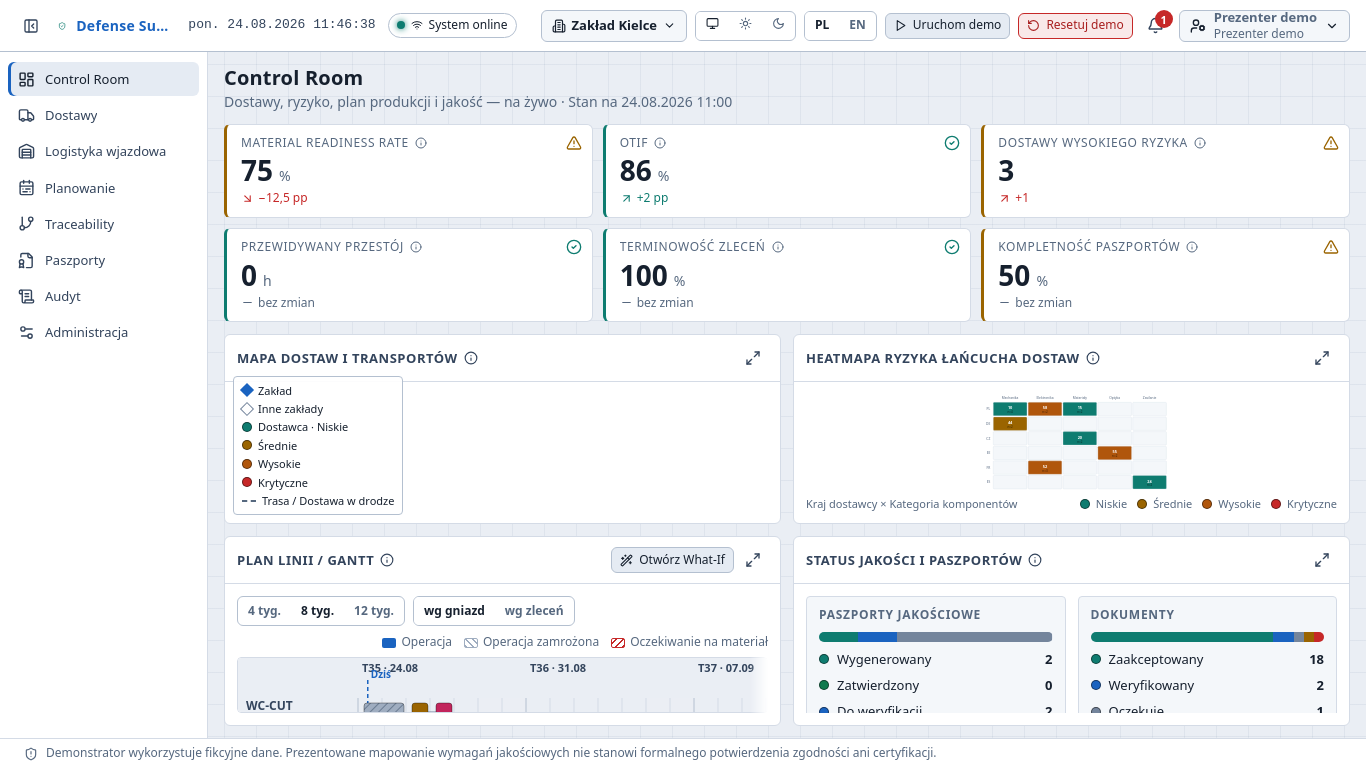
Test case: plant switching › shows no other plant’s records after a switch
Expected: the element with test id "panel-plan" is shown, [224,536,781,726]
Expected: the element with test id "gantt" is shown, [237,596,768,713]
Click the button with test id "site-switch": (614, 26) [540,10,687,42]
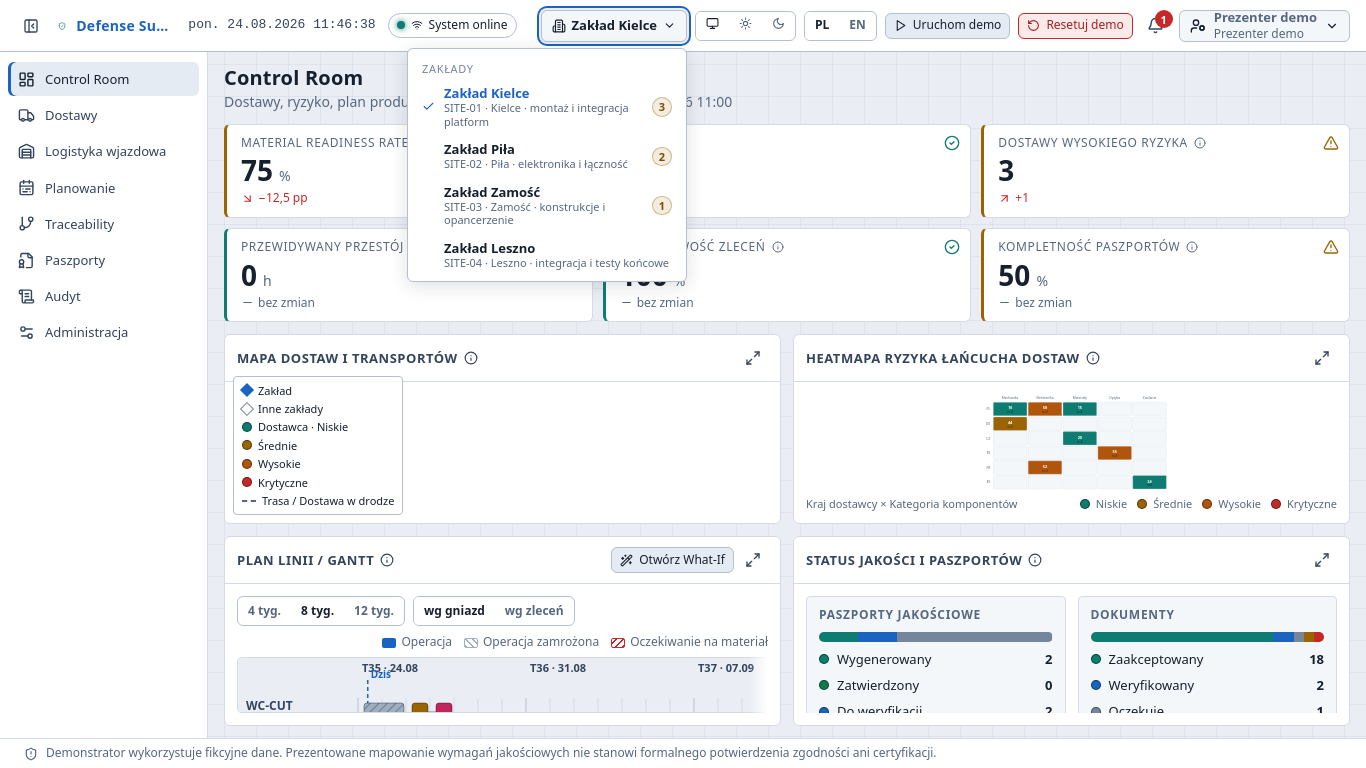
Click the option with test id "site-option-SITE-03": (547, 206) [414,179,680,233]
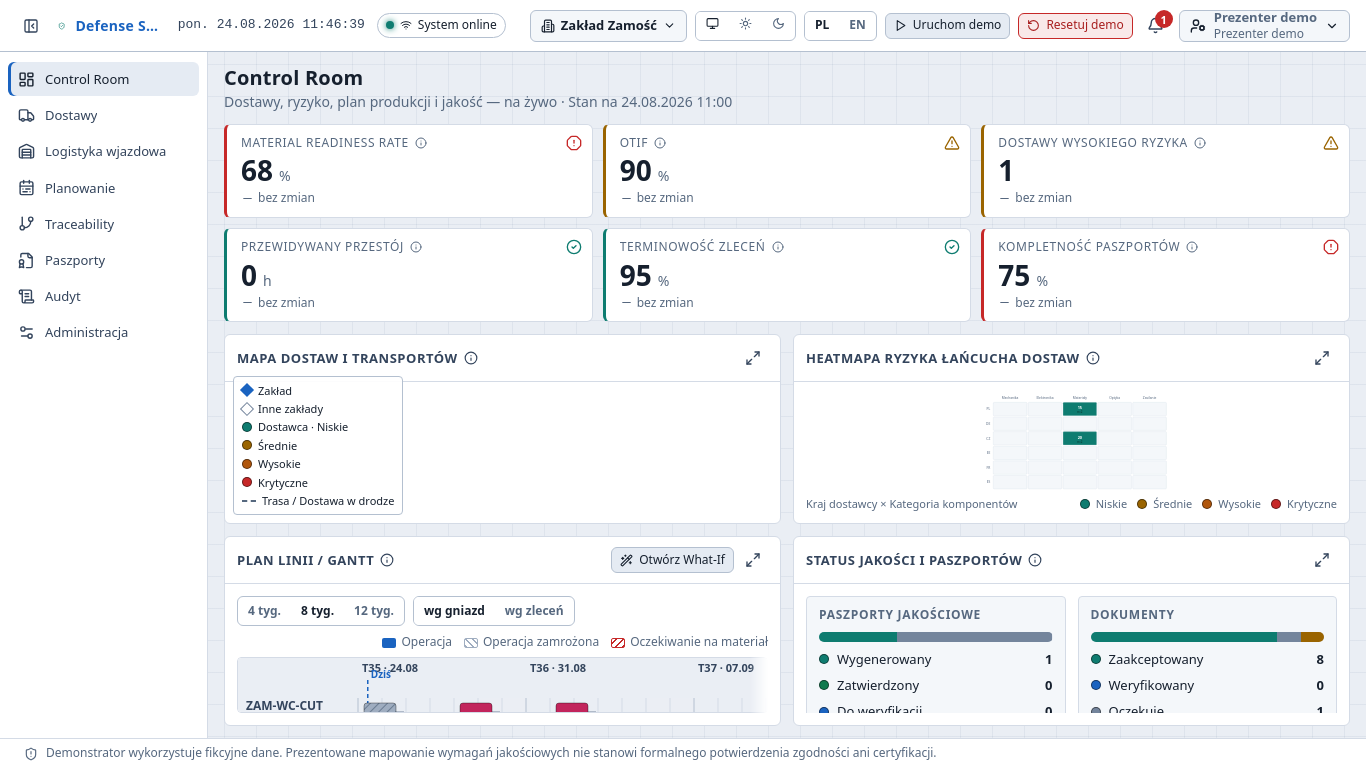
Expected: the element with test id "panel-plan" shows "ZAM-WC-CUT", [246,697,323,714]
